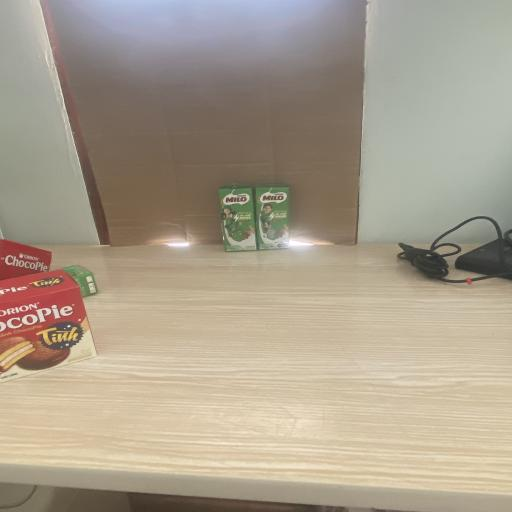chocopie: (0, 270, 84, 380), (0, 239, 52, 277)
milo: (217, 186, 257, 252), (254, 186, 290, 250), (39, 264, 94, 302)
